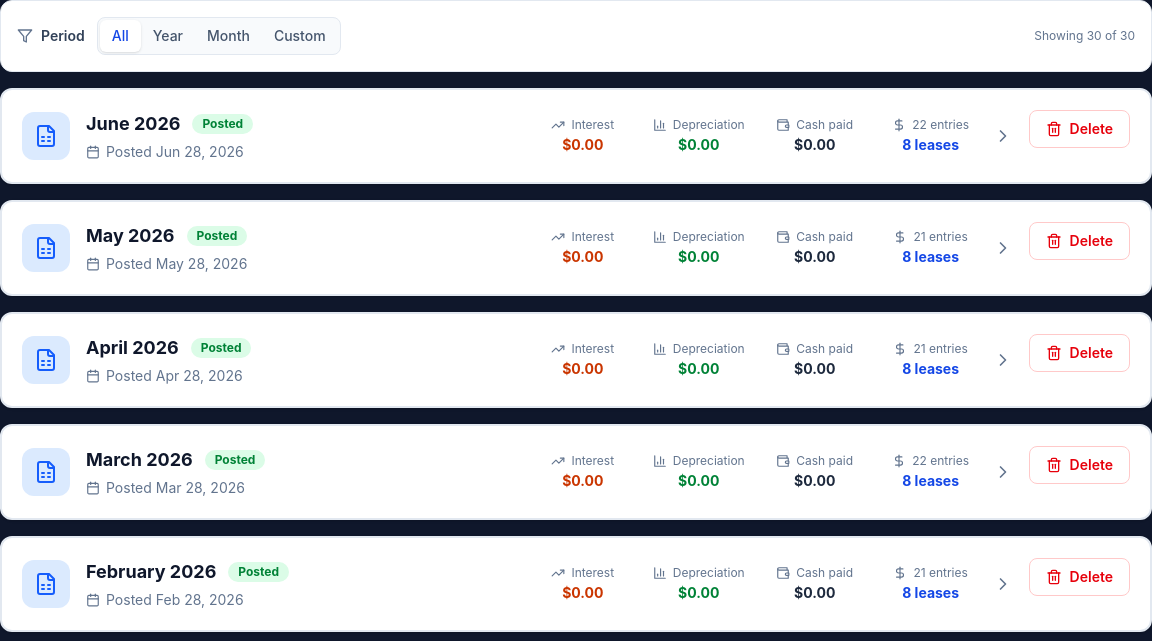
Test: Month-end flow: preview, post, lock and reopen › documents: an earlier posted month refuses to reopen; the latest month reopens and then the previous one becomes reopenable
This screenshot has width=1152, height=641.
Later steps or results of the test are not shown.
Click the 2nd button "Delete" at (1079, 241), box [1029,222,1130,260]
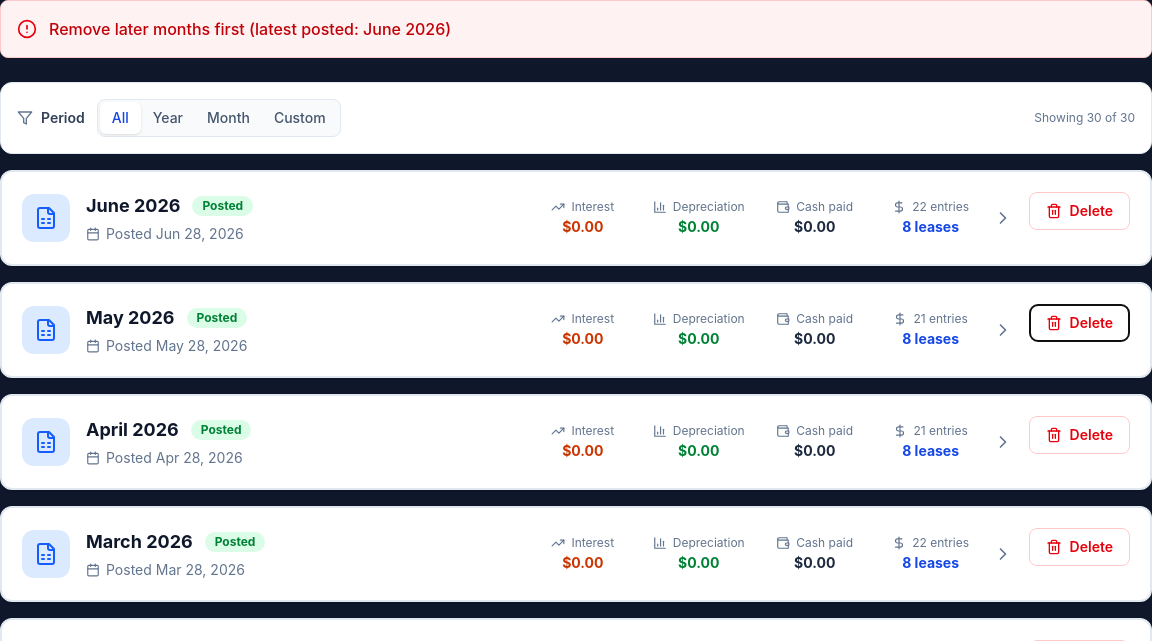
Expected: the heading "Please confirm" is not shown
Now the text "Remove later months first (latest posted: June 2026)" is shown, box [49,17,451,41]
Click the 1st button "Delete" at (1079, 211), box [1029,192,1130,230]
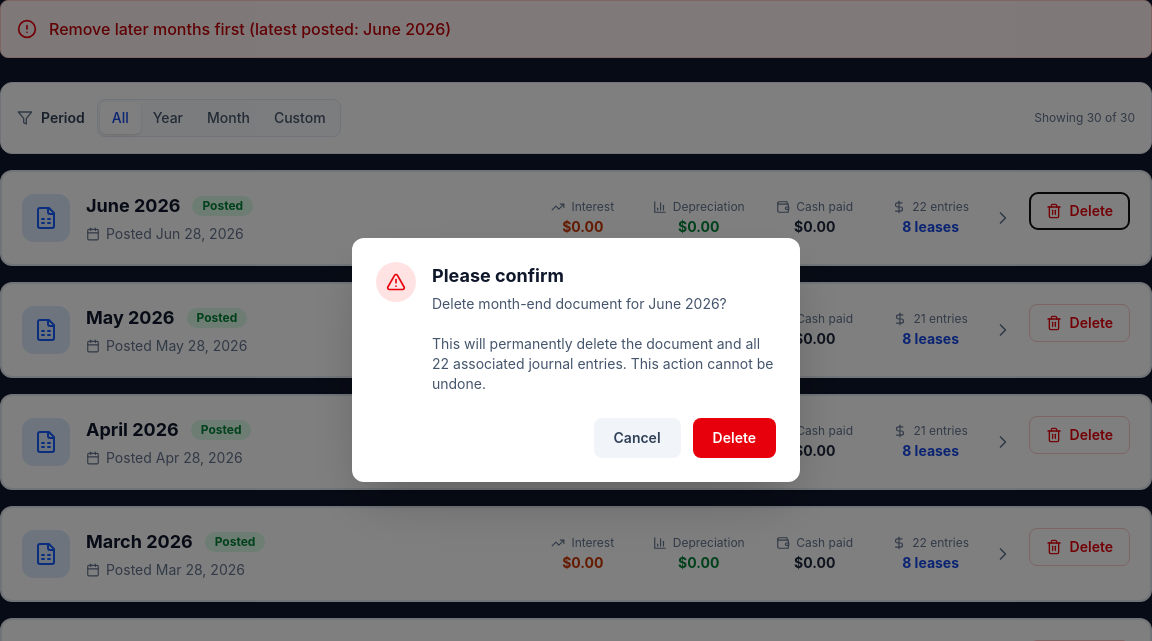
Now the text "Delete month-end document for June 2026?" is shown, box [432,295,773,392]
Click the button "Delete" at (734, 438), box [693,418,776,458]
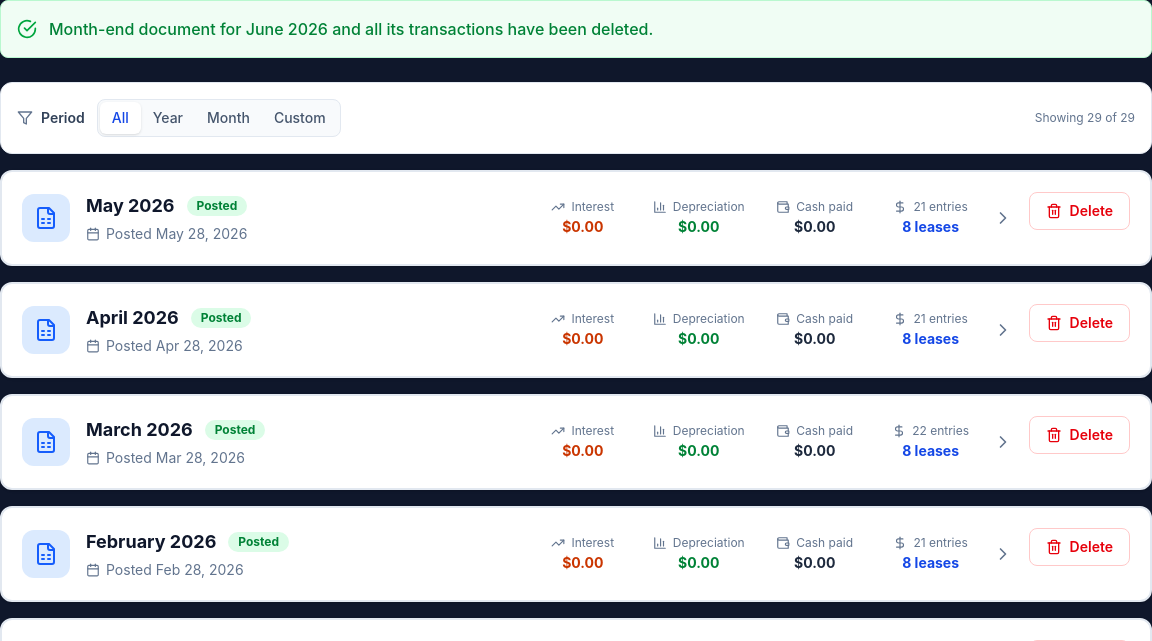
Now the text "Month-end document for June 2026 and all its transactions have been deleted." is shown, box [49,17,653,41]
May is now the latest posted month, so it can be reopened (confirm shown, then cancelled).
Click the 1st button "Delete" at (1079, 211), box [1029,192,1130,230]
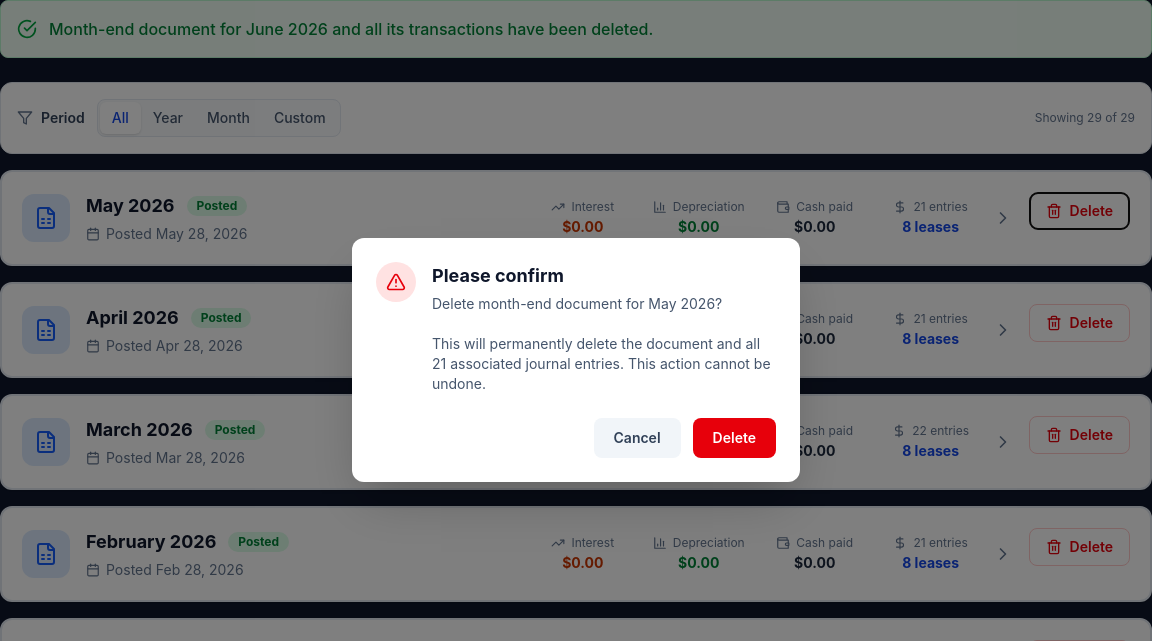
Now the text "Delete month-end document for May 2026?" is shown, box [432,295,771,392]
